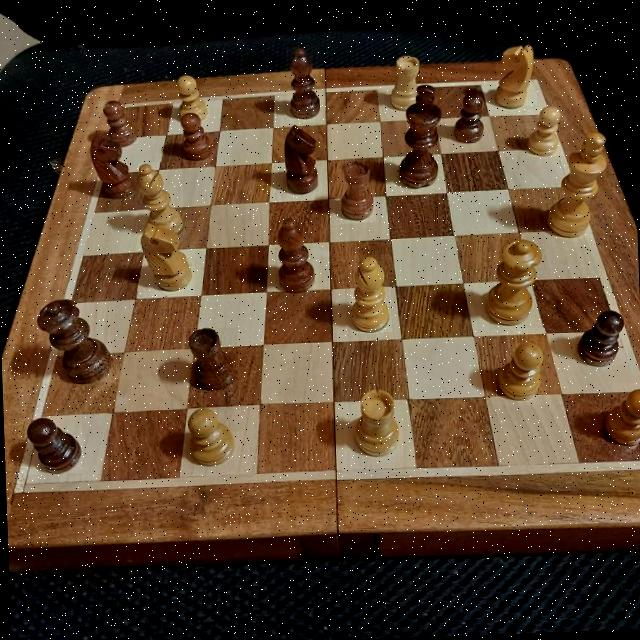black-camel: (267, 216, 322, 292), (286, 46, 324, 123)
black-elephant: (186, 327, 239, 393), (336, 159, 376, 223)
black-horse: (89, 133, 138, 205), (278, 124, 324, 188)
black-king: (402, 84, 443, 185)
black-pawn: (23, 412, 83, 474), (582, 304, 628, 366), (175, 116, 218, 162), (98, 100, 138, 144), (456, 92, 488, 140)
black-queen: (35, 297, 112, 384)
white-camel: (349, 254, 392, 332), (138, 161, 184, 224)
white-elephant: (352, 385, 402, 457), (390, 50, 420, 104)
white-horse: (136, 219, 197, 298), (495, 42, 537, 106)
white-king: (550, 128, 618, 238)
white-pawn: (491, 338, 550, 406), (184, 402, 234, 469), (524, 108, 568, 156), (611, 381, 640, 450), (167, 73, 210, 118)
white-queen: (487, 235, 548, 329)
